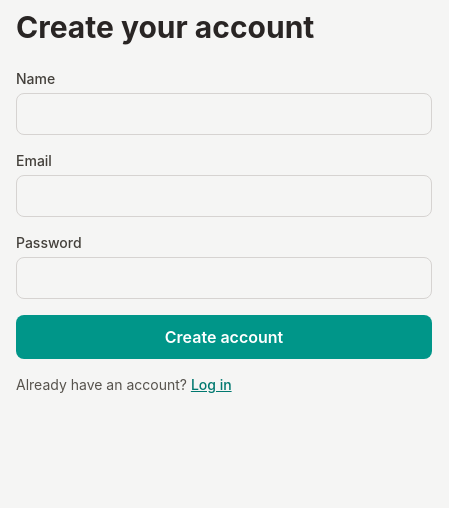
Test: RegisterPage › maps a Firebase error code to a friendly message
Step 1. Type "Abbie" into the field labelled "Name" → (224, 114), box [16,93,432,135]
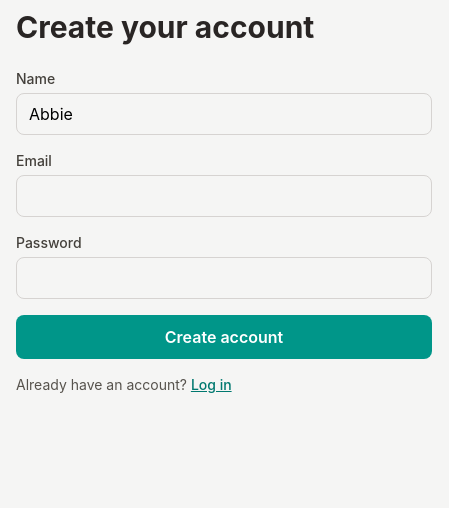
Step 2. Type "a@b.com" into the field labelled "Email" → (224, 196), box [16,175,432,217]
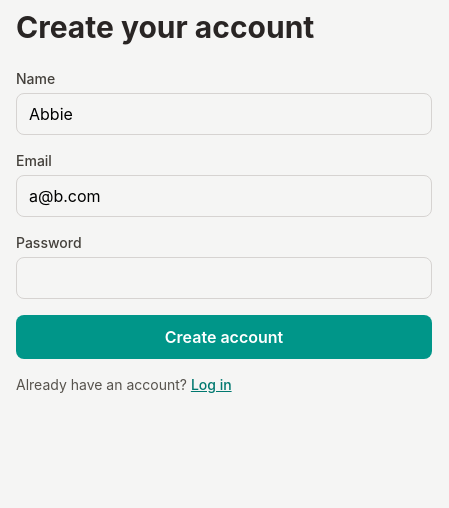
Step 3. Type "secret1" into the password field labelled "Password" → (224, 278), box [16,257,432,299]
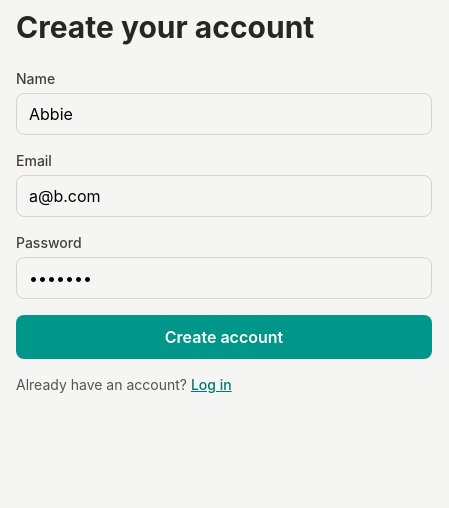
Step 4. Click the button "Create account" → (224, 337), box [16,315,432,359]
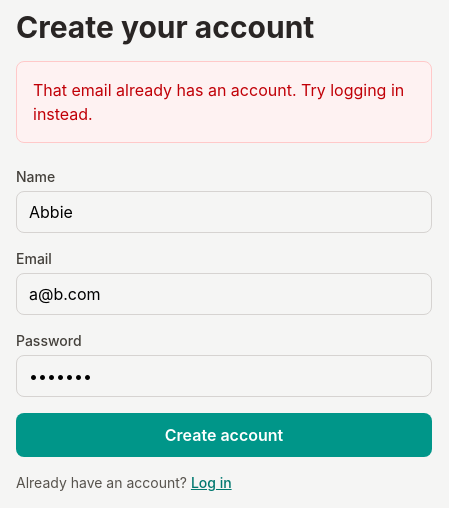
Result: the text "That email already has an account. Try logging in instead." is shown at [16,61,432,143]
